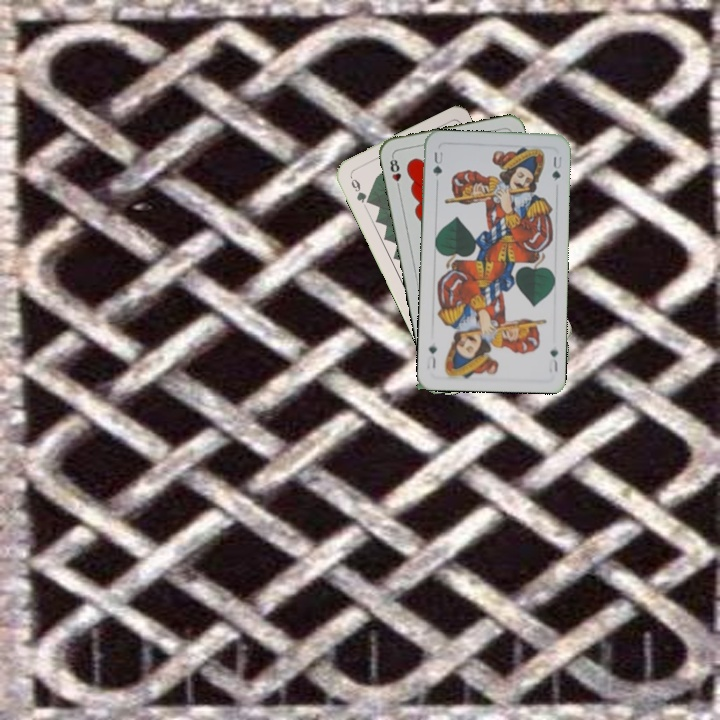G9: (346, 172, 373, 207)
GU: (429, 147, 445, 179), (545, 345, 561, 375)
H8: (386, 152, 404, 193)
